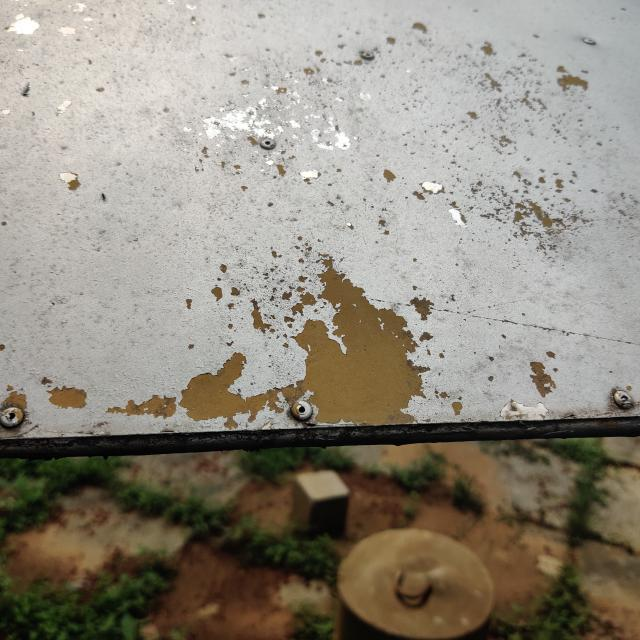Paint-off: (107, 259, 427, 424)
